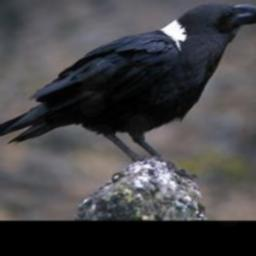Crow: (0, 2, 256, 182)
